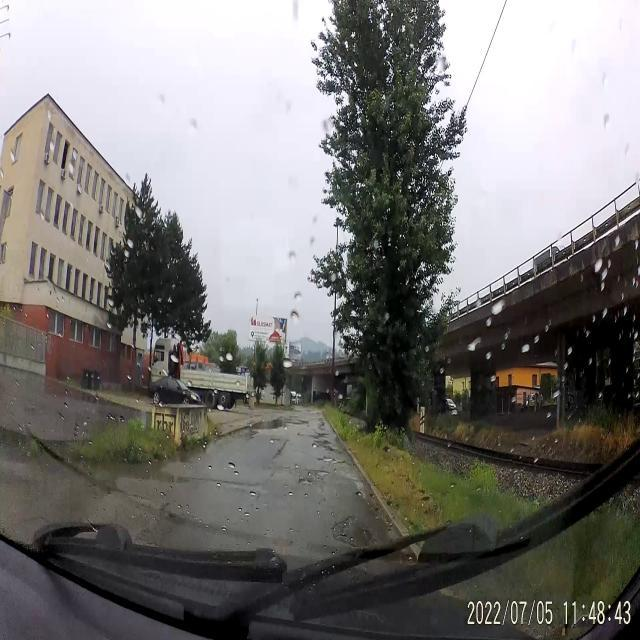Pothole: (327, 504, 375, 560), (316, 454, 348, 466), (299, 473, 314, 490), (313, 469, 335, 476)
